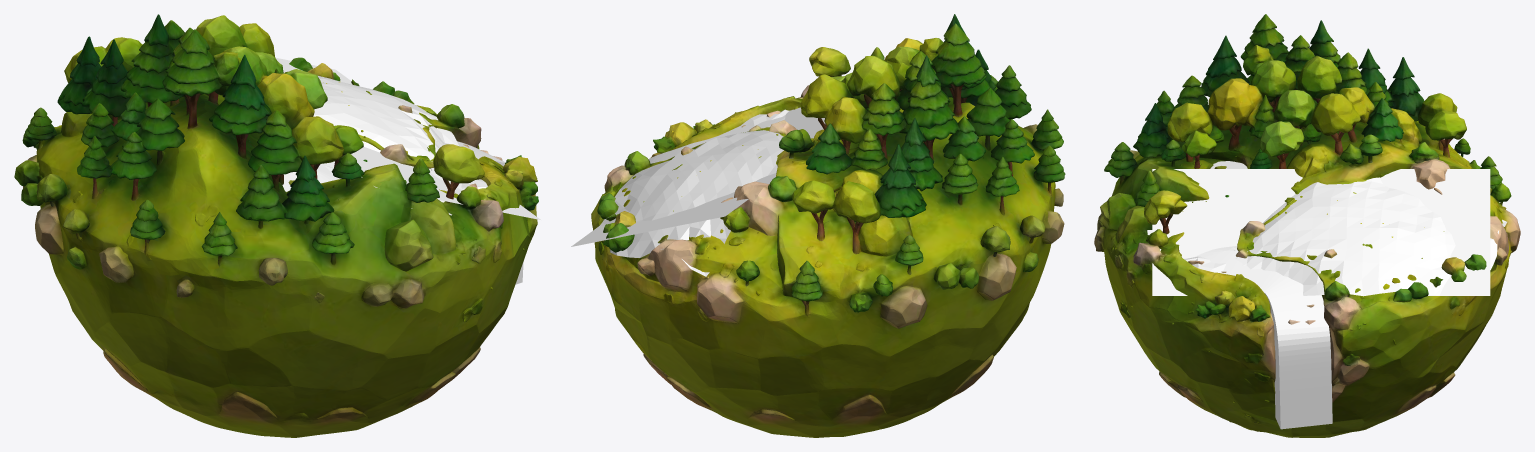
The model's file is player_planet_base_surface_plane.glb.
The picture shows the model from 3 angles, left to right: view 1: azimuth 30°, elevation 25°; view 2: azimuth 150°, elevation 25°; view 3: azimuth 270°, elevation 25°; orthographic projection. The views are drawn at different scales.
Visible parts, largest first — view 1: tripo_node_53796a8b-9979-4f89-805a-2b1569d8e02e, 平面, 平面 1, 圆管; view 2: tripo_node_53796a8b-9979-4f89-805a-2b1569d8e02e, 平面, 平面 1, 圆管; view 3: tripo_node_53796a8b-9979-4f89-805a-2b1569d8e02e, 平面, 平面 1, 圆管.
Boxes of the visible parts, x1,y1,x2,y2 form: tripo_node_53796a8b-9979-4f89-805a-2b1569d8e02e: [14, 14, 538, 437]; 平面: [283, 71, 487, 215]; 平面 1: [275, 57, 540, 219]; 圆管: [282, 141, 523, 284]; tripo_node_53796a8b-9979-4f89-805a-2b1569d8e02e: [591, 14, 1065, 437]; 平面: [599, 109, 789, 276]; 平面 1: [571, 107, 825, 246]; 圆管: [648, 115, 785, 163]; tripo_node_53796a8b-9979-4f89-805a-2b1569d8e02e: [1094, 14, 1520, 437]; 平面: [1147, 177, 1507, 296]; 平面 1: [1152, 169, 1490, 295]; 圆管: [1194, 161, 1332, 429].
Bounding box in the file's own units: 1.01 × 0.9187 × 1.
4 materials, 1 textured.
